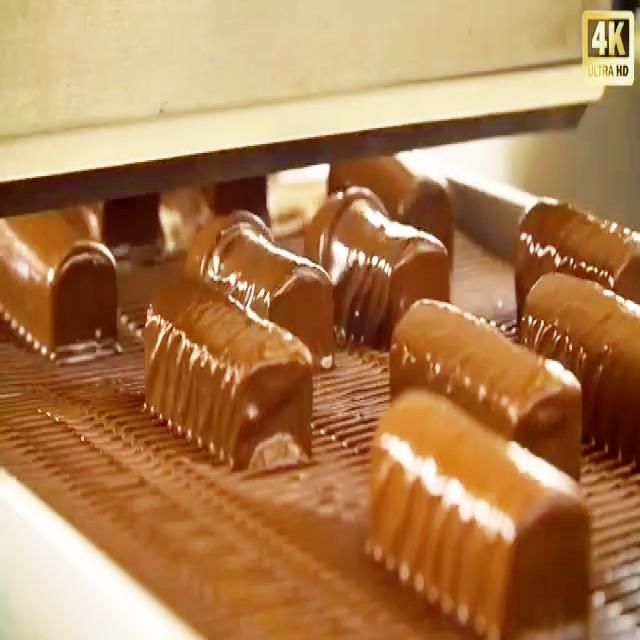Choco: (363, 386, 592, 634), (387, 293, 584, 480), (141, 270, 314, 473), (182, 206, 336, 368), (303, 182, 450, 348), (521, 265, 640, 460), (1, 203, 119, 359), (512, 194, 638, 322), (384, 155, 464, 285)
